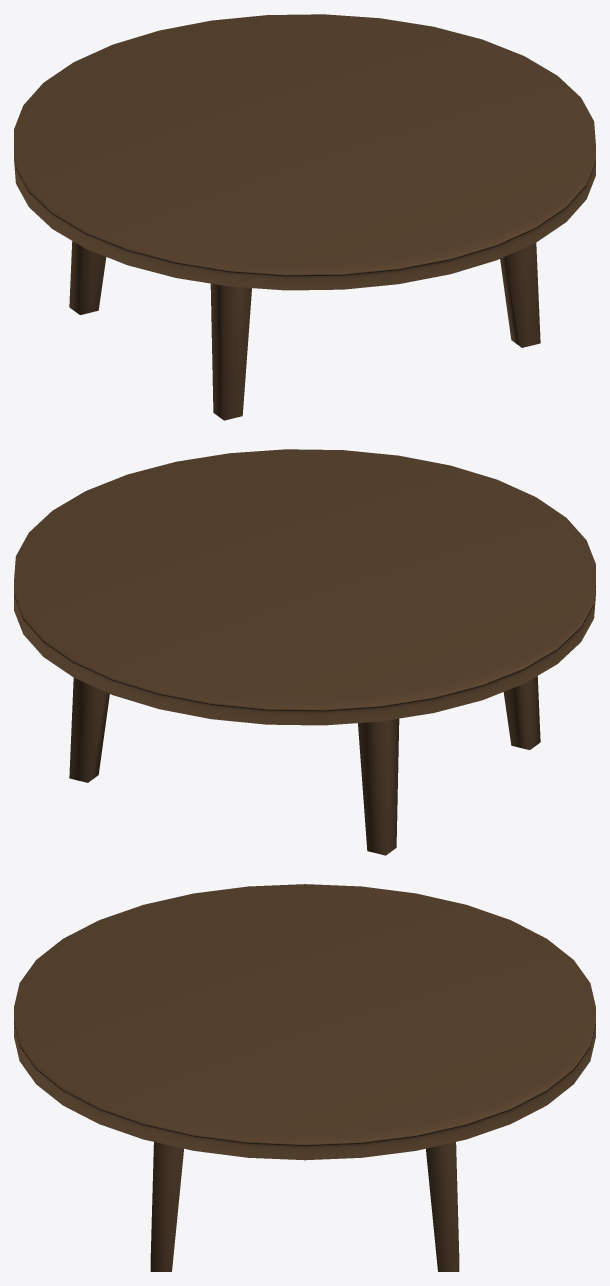
Rendered from ちゃぶ台.glb.
3 views of the same model, one above another, from view 1: azimuth 30°, elevation 25°; view 2: azimuth 150°, elevation 25°; view 3: azimuth 270°, elevation 25° (orthographic).
Visible parts, largest first — view 1: 台, 足; view 2: 台, 足; view 3: 台, 足.
Boxes of the visible parts, left/top/right/bottom form: 台: left=14, top=14, right=595, bottom=290; 足: left=69, top=241, right=540, bottom=420; 台: left=14, top=449, right=595, bottom=725; 足: left=69, top=676, right=540, bottom=855; 台: left=14, top=884, right=595, bottom=1160; 足: left=150, top=1142, right=459, bottom=1271.
Size of the model in its own units: 0.7 by 0.2491 by 0.7.
